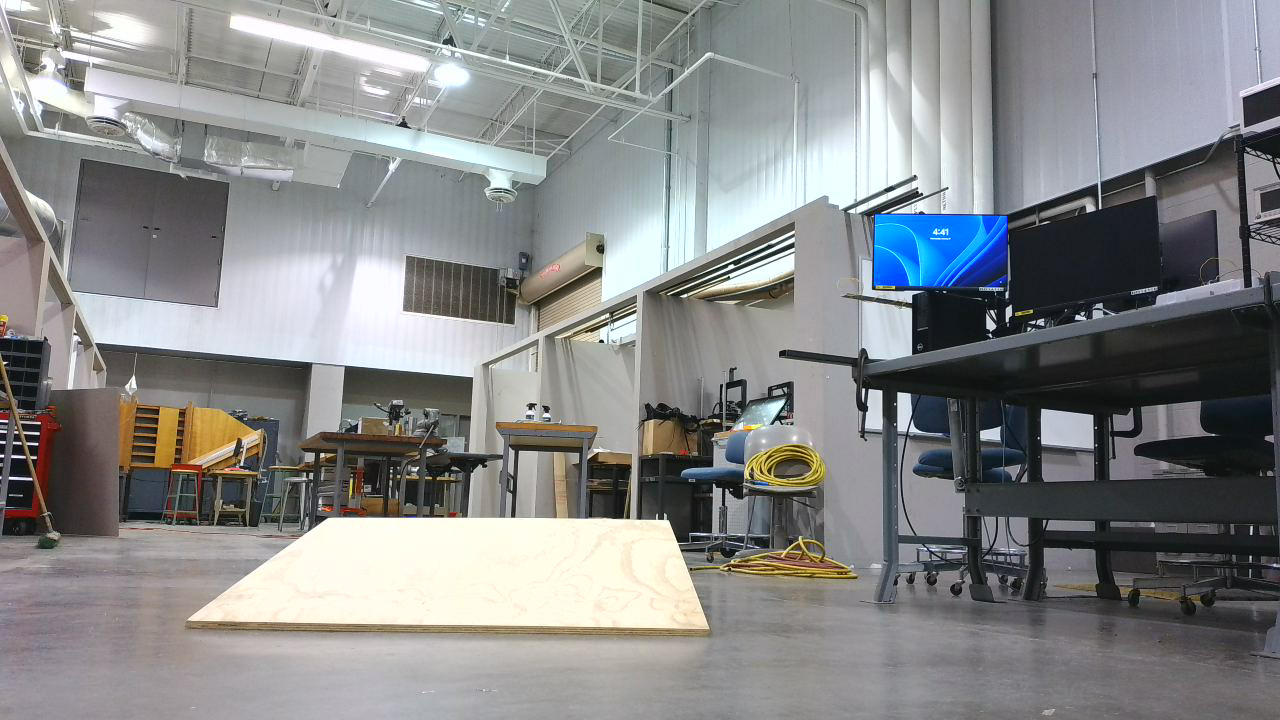ramp: (191, 517, 723, 657)
